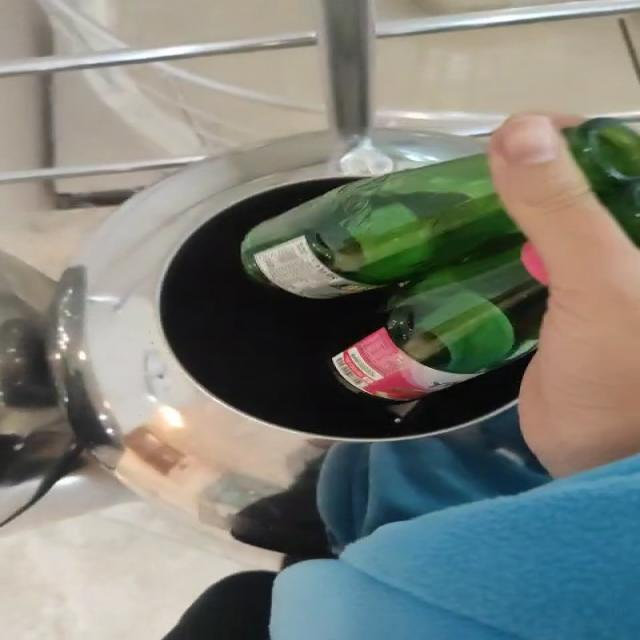glass: (241, 155, 548, 374), (568, 120, 639, 239)
